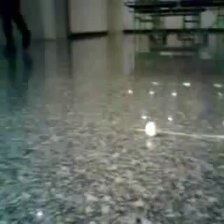w: (144, 120, 158, 137)
